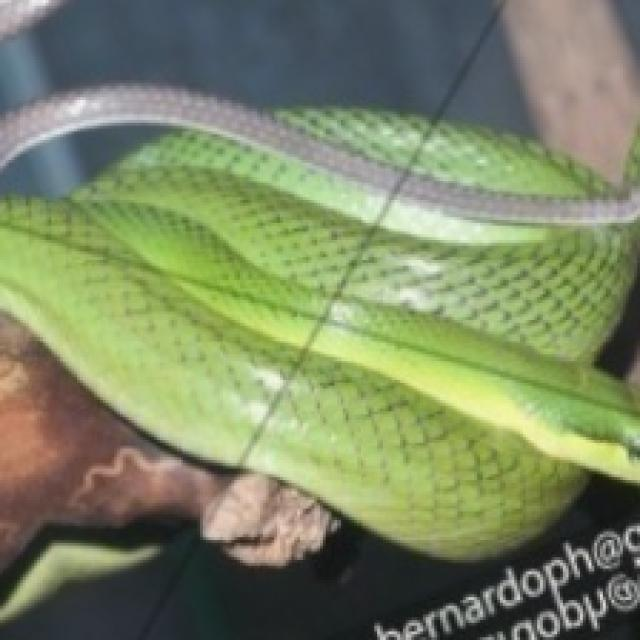red-tailed green ratsnake: (0, 86, 637, 554)
